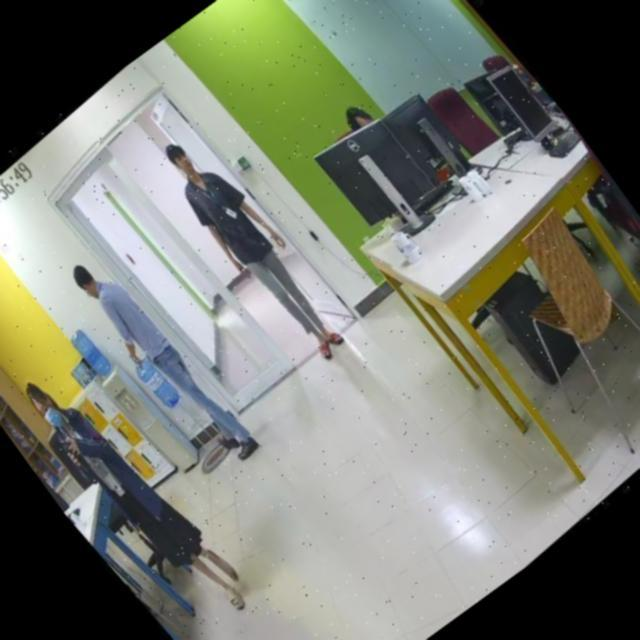person: (12, 346, 261, 640), (140, 111, 362, 379), (62, 235, 266, 485)
